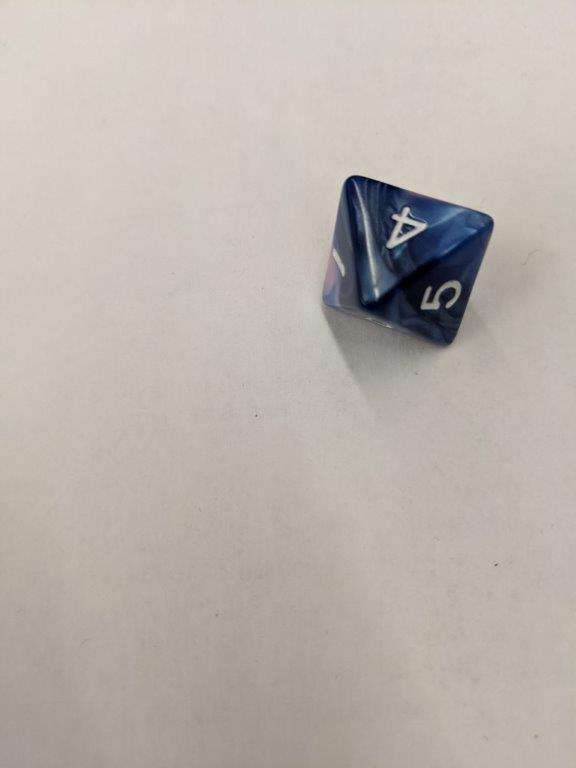d8-4: (321, 174, 495, 346)
